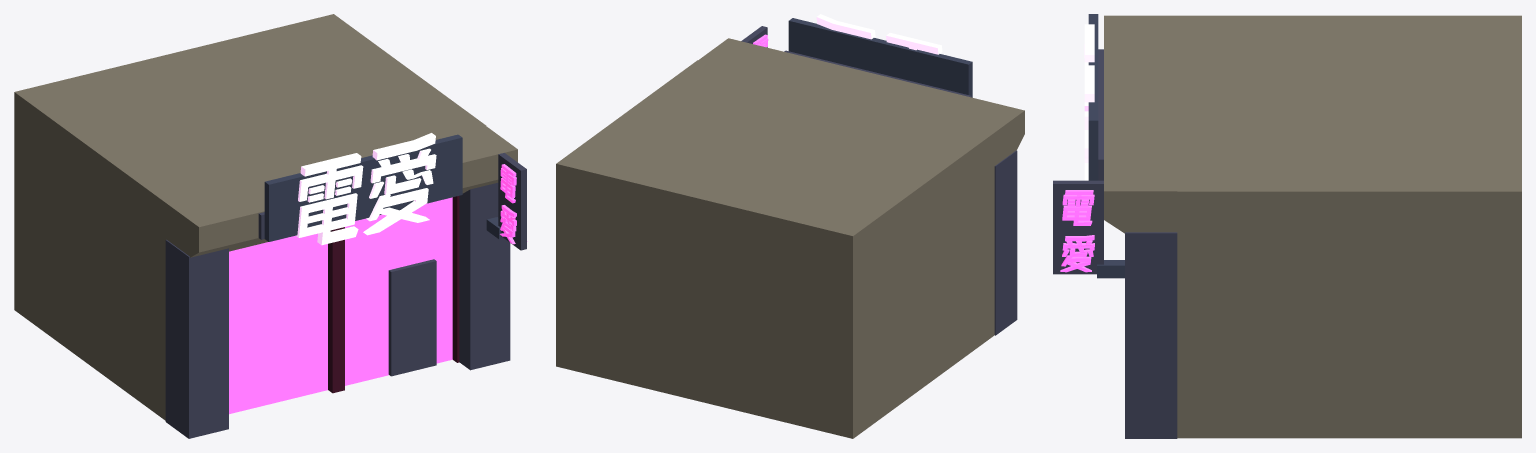
The picture shows the model from 3 angles, left to right: view 1: azimuth 30°, elevation 25°; view 2: azimuth 150°, elevation 25°; view 3: azimuth 270°, elevation 25°; orthographic projection. The views are drawn at different scales.
Parts seen in each view (by area): view 1: Cube.028, Cube.002, Cube.007, Text.002, Cube, Cube.001, Cube.011, Cube.006, Cube.005, Cube.008, Cube.004, Text.001; view 2: Cube.028, Cube.001, Cube.011, Cube.007, Text.002; view 3: Cube.028, Cube.001, Cube, Cube.008, Text, Cube.011, Text.002, Cube.010, Cube.009.
Part boxes in pixels (x1,y1,x2,y2): Cube.028: (14,14,486,420); Cube.002: (229,197,452,414); Cube.007: (165,239,228,438); Text.002: (296,133,436,245); Cube: (459,182,510,370); Cube.001: (166,125,517,257); Cube.011: (264,134,462,241); Cube.006: (388,259,436,376); Cube.005: (328,227,344,393); Cube.008: (498,153,526,250); Cube.004: (452,196,459,362); Text.001: (500,164,516,244); Cube.028: (556,60,994,438); Cube.001: (698,38,1024,165); Cube.011: (788,18,972,97); Cube.007: (994,150,1017,335); Text.002: (816,14,942,54); Cube.028: (1177,15,1521,438); Cube.001: (1104,15,1177,233); Cube: (1125,232,1177,438); Cube.008: (1053,180,1103,274); Text: (1060,190,1094,272); Cube.011: (1088,14,1098,180); Text.002: (1084,24,1094,180); Cube.010: (1098,49,1103,180); Cube.009: (1097,260,1124,278).
Size of the model in its own units: 12.49 by 9.66 by 13.95.
